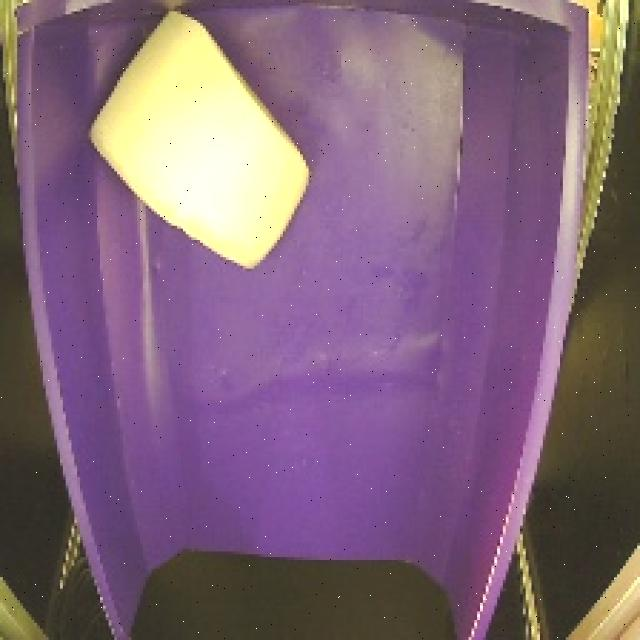white_radish: (84, 1, 316, 278)
